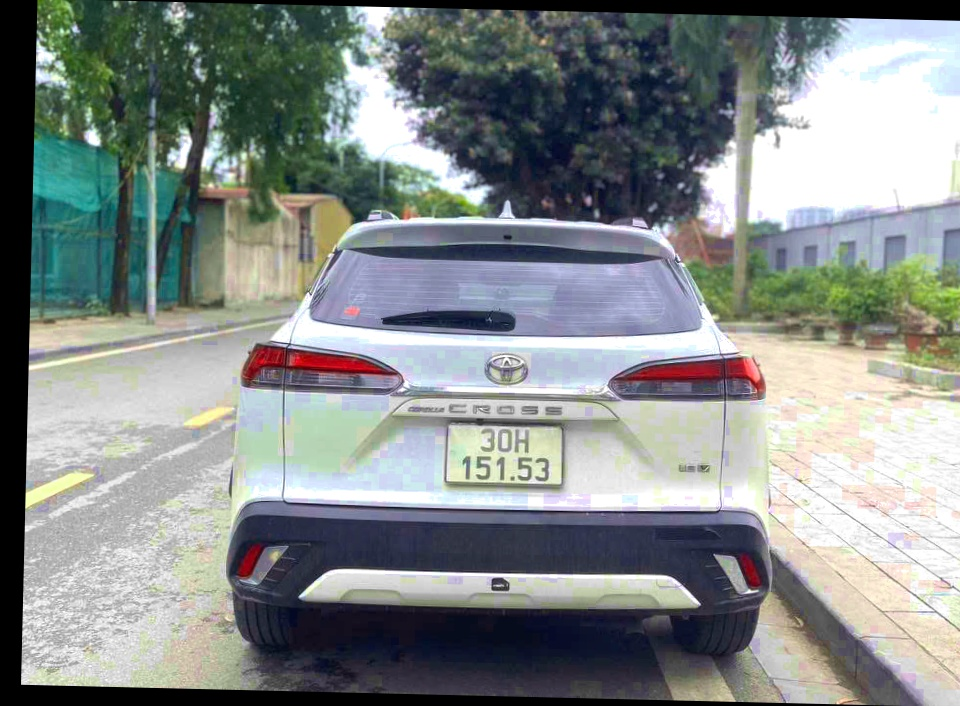Bien-so: (405, 430, 517, 494)
